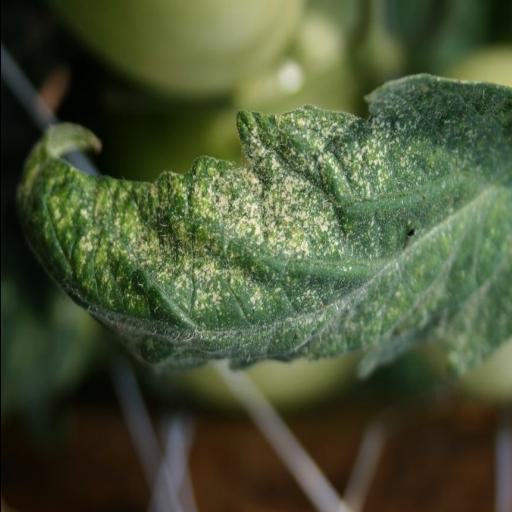disease_tomato: (11, 69, 512, 385)
